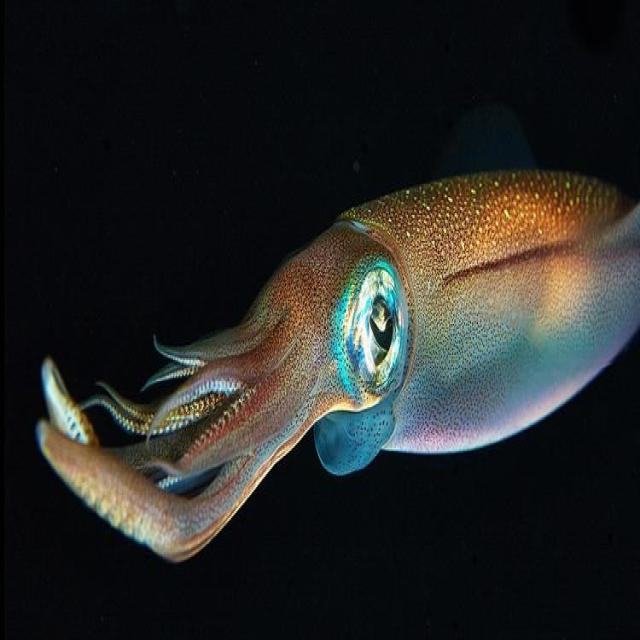SQUID: (16, 137, 640, 570)
